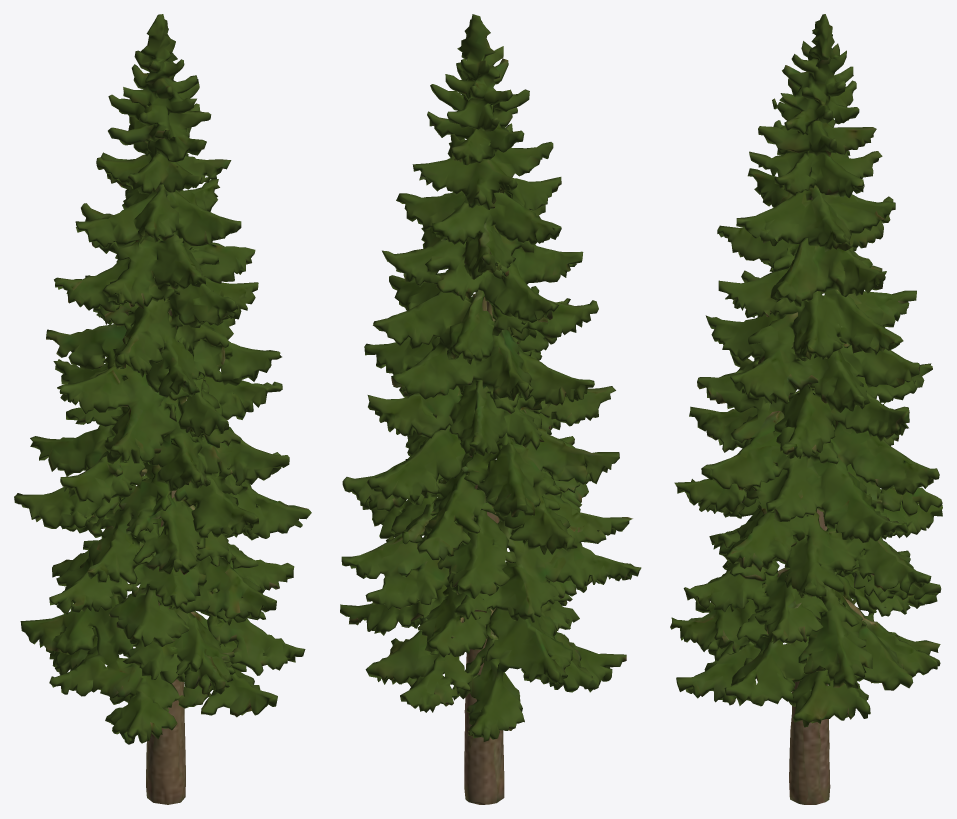
The model's file is tree_06_norway_spruce.glb.
The picture shows the model from 3 angles, left to right: view 1: azimuth 30°, elevation 25°; view 2: azimuth 150°, elevation 25°; view 3: azimuth 270°, elevation 25°; orthographic projection.
Visible parts, largest first — view 1: geometry_0; view 2: geometry_0; view 3: geometry_0.
Part boxes in pixels (x1=…): geometry_0: x1=14, y1=14, x2=311, y2=804; geometry_0: x1=340, y1=14, x2=641, y2=804; geometry_0: x1=670, y1=14, x2=942, y2=804.
Bounding box in the file's own units: 0.347 × 1 × 0.3165.
1 material, 1 textured.
